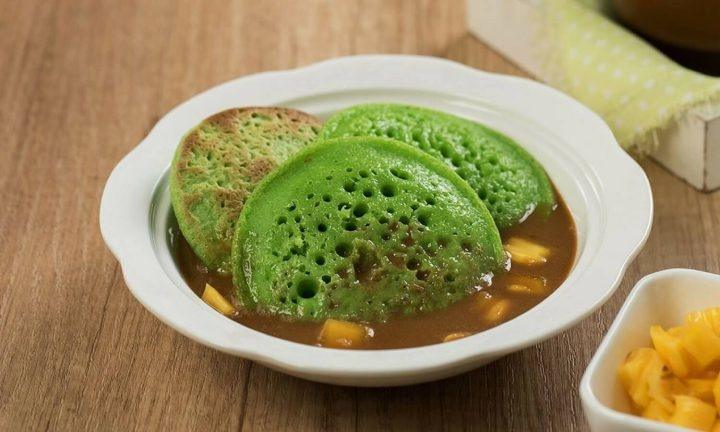srabi: (200, 122, 523, 329)
